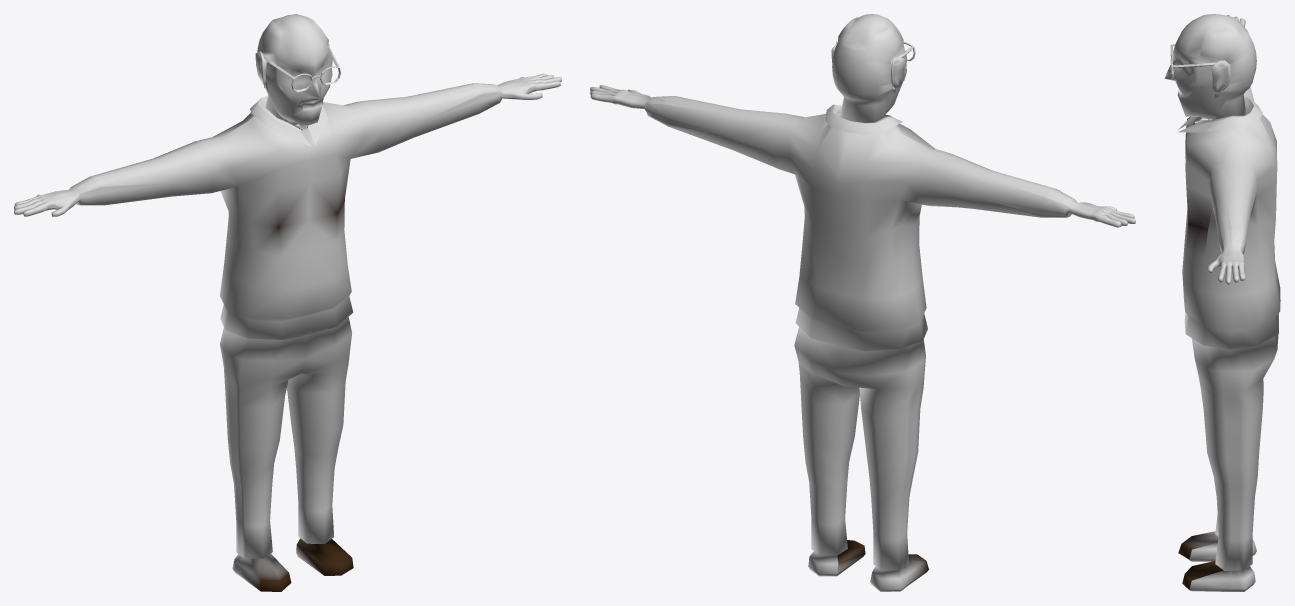
The model's file is JayBolter.fbx.
The picture shows the model from 3 angles, left to right: view 1: azimuth 30°, elevation 25°; view 2: azimuth 150°, elevation 25°; view 3: azimuth 270°, elevation 25°; orthographic projection.
Parts seen in each view (by area): view 1: JayBolter; view 2: JayBolter; view 3: JayBolter.
Part boxes in pixels (left/top/right/bottom): JayBolter: left=14, top=14, right=561, bottom=591; JayBolter: left=590, top=14, right=1135, bottom=591; JayBolter: left=1164, top=14, right=1280, bottom=591.
Bounding box in the file's own units: 213 × 206 × 39.21.
